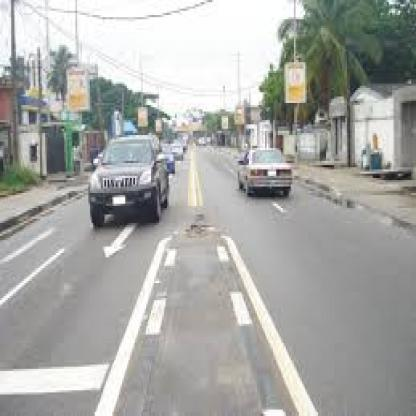car: (84, 119, 174, 242), (239, 145, 304, 213)
